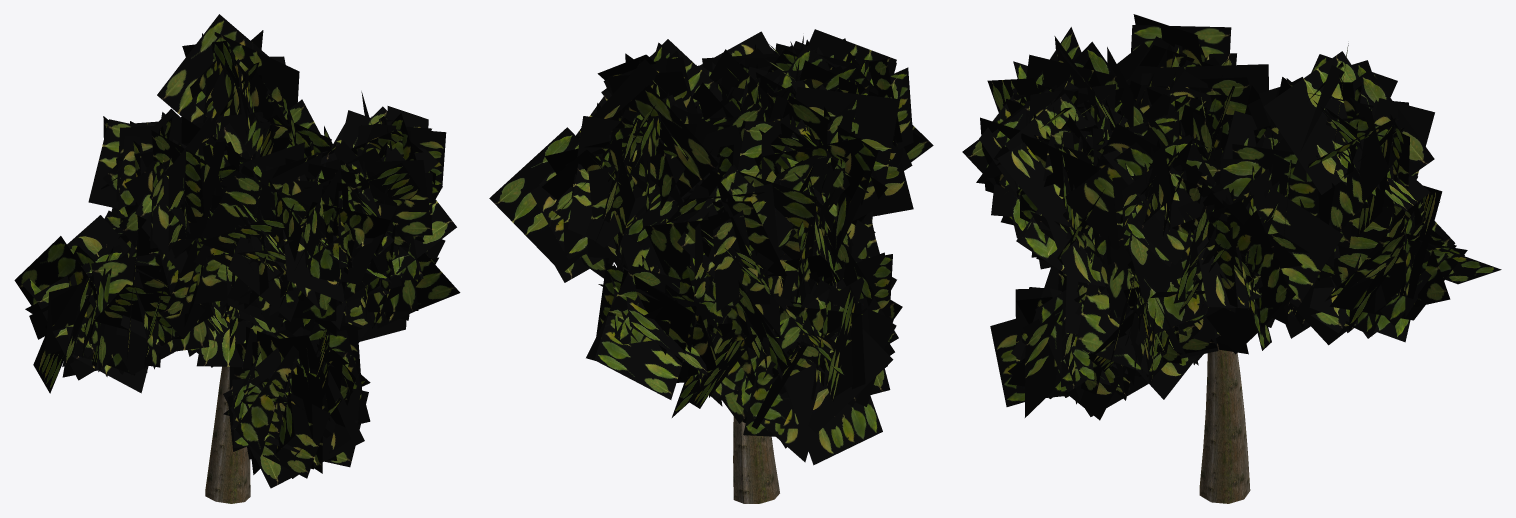
The picture shows the model from 3 angles, left to right: view 1: azimuth 30°, elevation 25°; view 2: azimuth 150°, elevation 25°; view 3: azimuth 270°, elevation 25°; orthographic projection. The views are drawn at different scales.
Visible parts, largest first — view 1: plane; view 2: plane; view 3: plane.
Part boxes in pixels (x1,y1,x2,y2): plane: (14,14,460,503); plane: (489,29,933,503); plane: (962,14,1501,503).
Bounding box in the file's own units: 10.43 × 11.16 × 11.38.
Materials: 2 (2 with a texture image).
